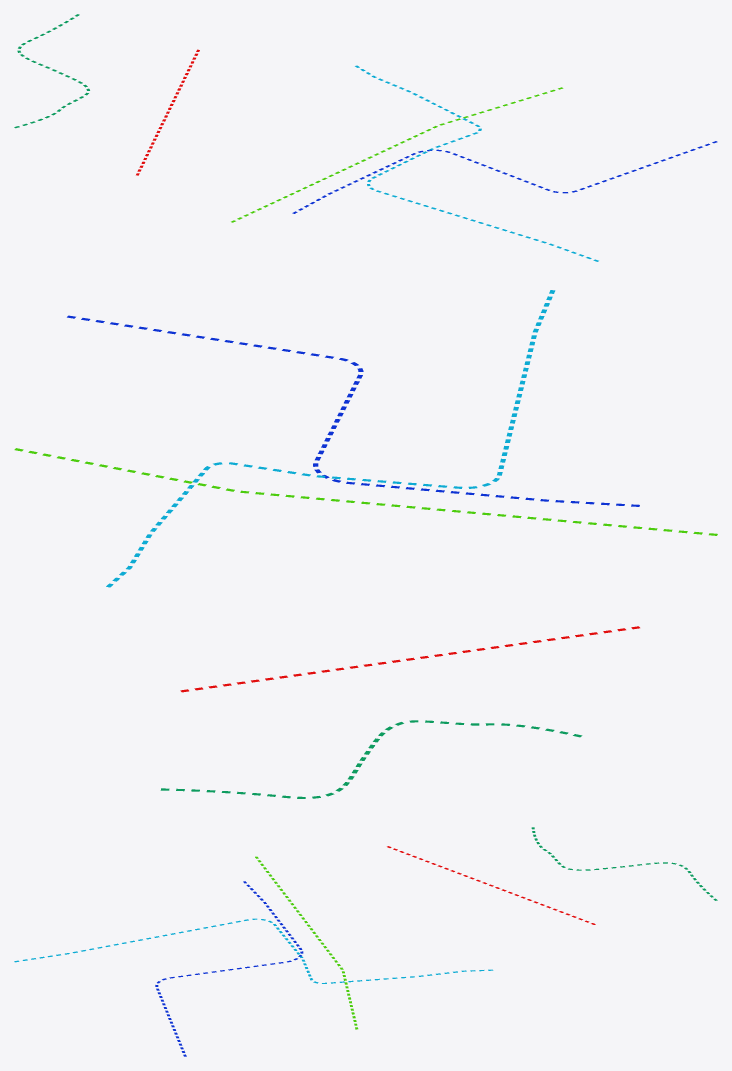
Rendered from metro.FBX.
3 renders of one model, top to bottom at view 1: azimuth 30°, elevation 25°; view 2: azimuth 150°, elevation 25°; view 3: azimuth 270°, elevation 25°, orthographic. The views are drawn at different scales.
Parts seen in each view (by area): view 1: metro; view 2: metro; view 3: metro.
Boxes of the visible parts, x1,y1,x2,y2 form: metro: [14, 14, 717, 261]; metro: [14, 290, 717, 798]; metro: [14, 827, 717, 1056].
Size of the model in its own units: 98.04 by 7.79e-15 by 127.
